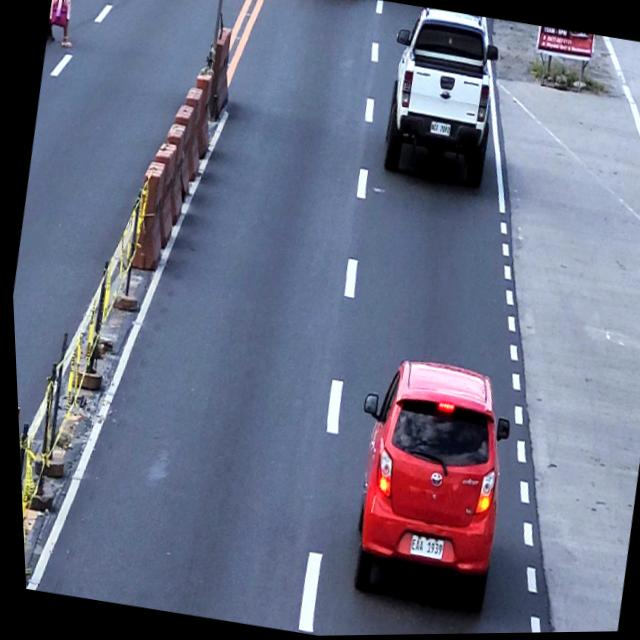Car: (325, 350, 521, 616), (370, 4, 509, 191)
License-Plate: (402, 531, 441, 563), (427, 120, 451, 139)
